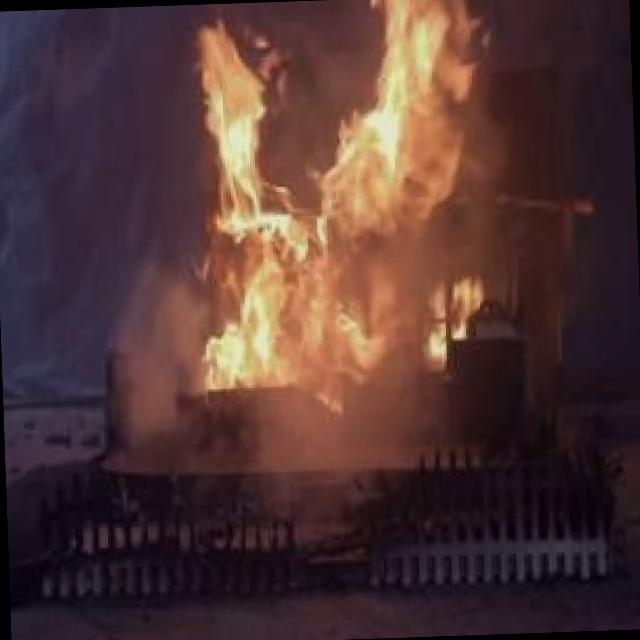fire: (157, 0, 535, 471)
